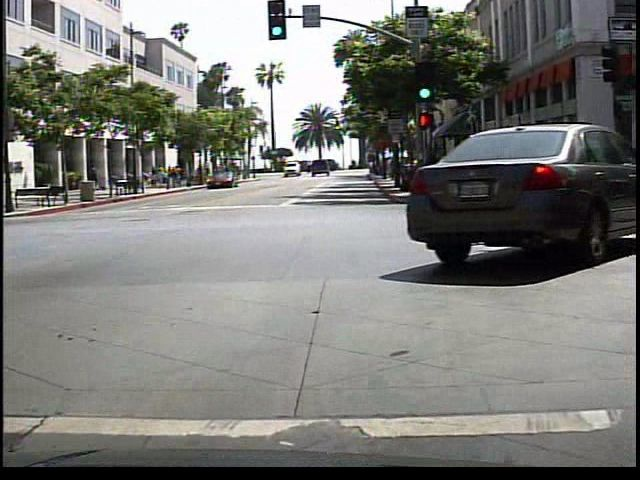person: (84, 160, 102, 192)
